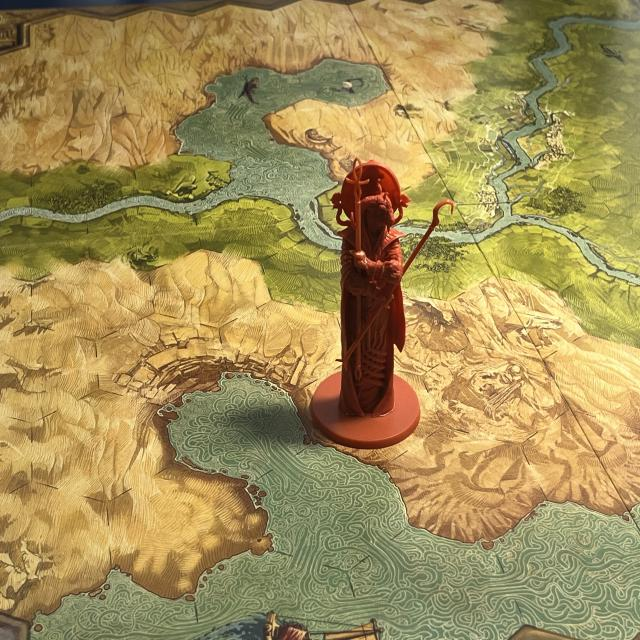amon: (314, 152, 456, 449)
